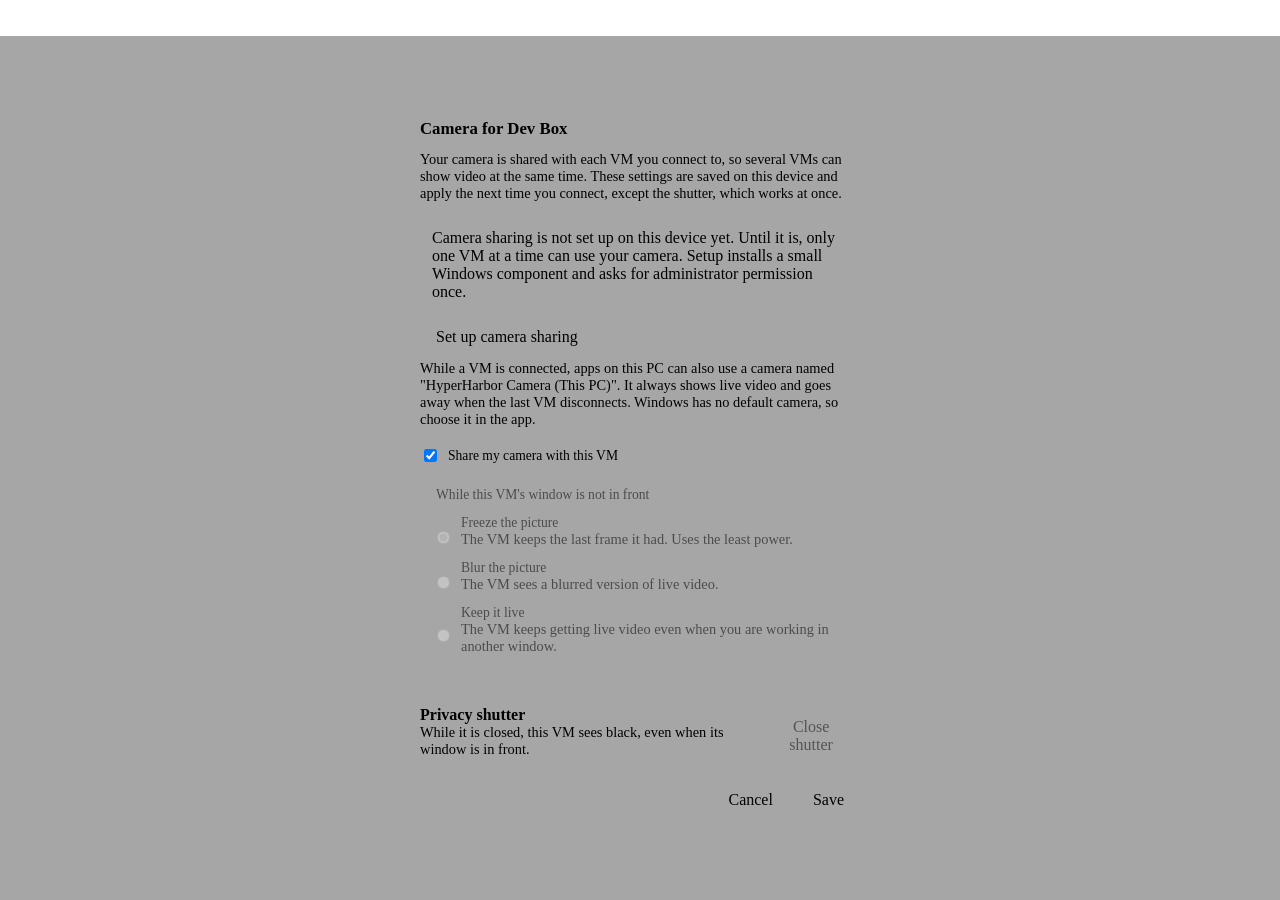
it: CameraDialog › shows why setup failed, for example when the permission prompt was declined
The width and height of the screenshot is (1280, 900).
Click the button "Set up camera sharing": (507, 337) [420, 321, 594, 353]
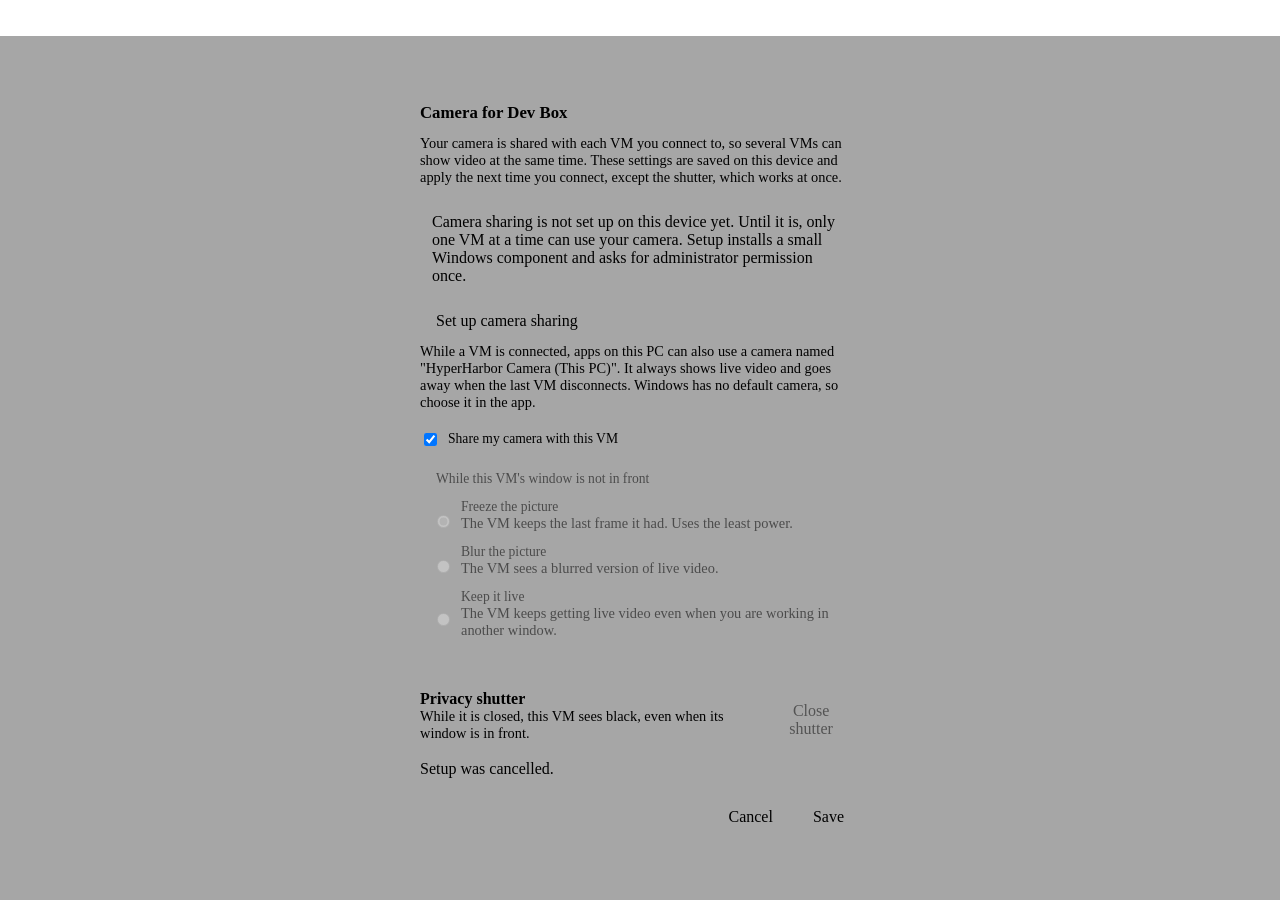
Expected: the button "Set up camera sharing" is shown, [420, 305, 594, 337]
Result: the text "Setup was cancelled." is shown at [420, 760, 554, 777]
